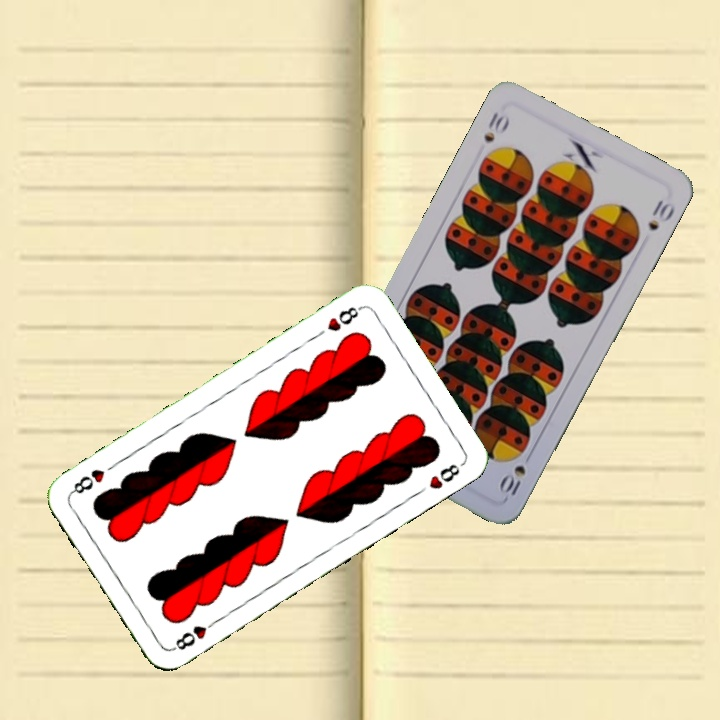H8: (168, 615, 221, 654), (323, 302, 365, 334)
S10: (496, 447, 534, 501), (480, 107, 512, 145)
